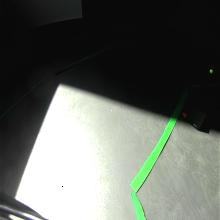green: (204, 58, 218, 78)
